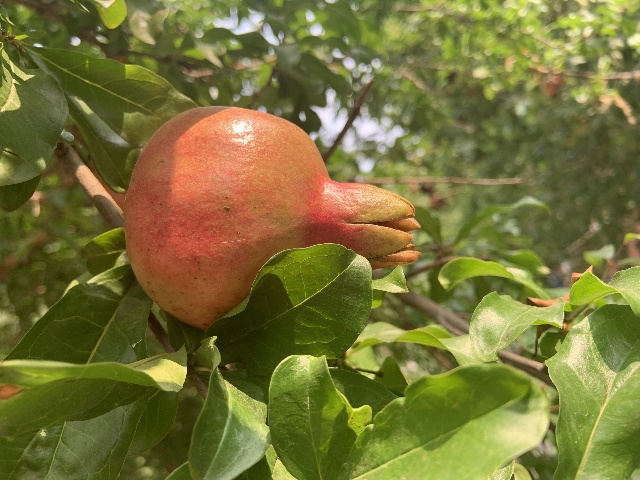ripe: (122, 106, 421, 327)
